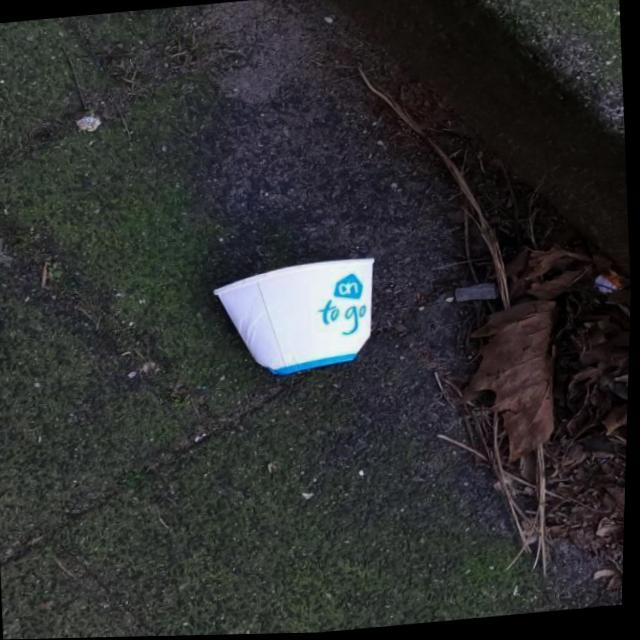Cup: (207, 253, 388, 382)
